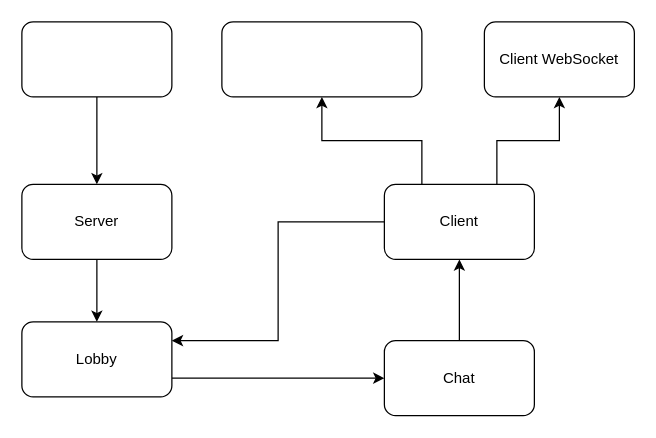
The diagram is 656 pixels wide and 438 high, and some of its shapes have lost their labels. Here are the shapes that lost their labels. From the top down, the box of each, then its label:
(21, 21, 172, 97): /GET lobby
(221, 21, 422, 97): /GET lobby/{lobby_id}
